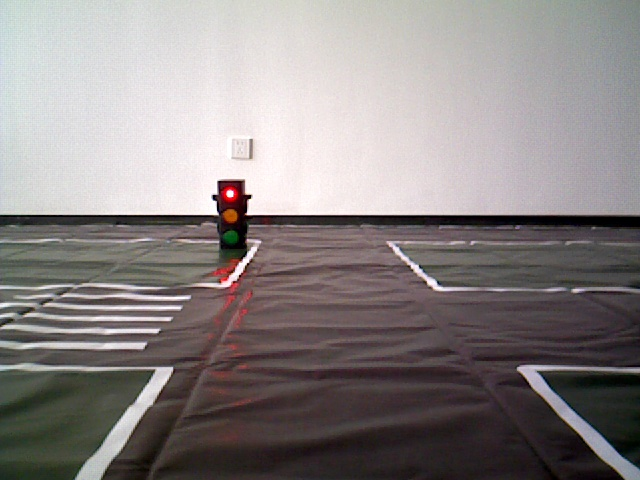red: (219, 179, 241, 251)
